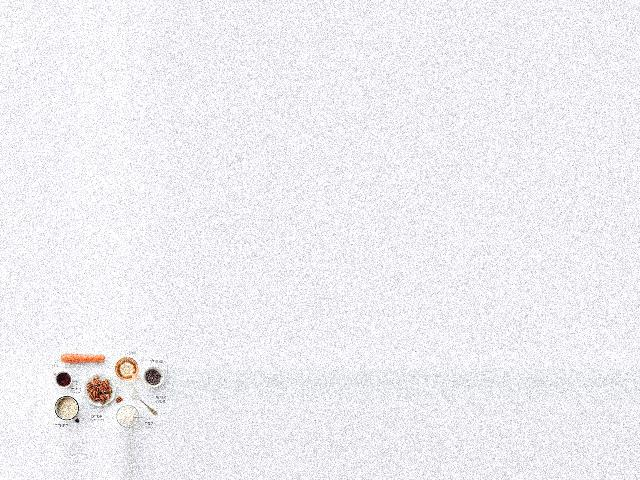carrot: (56, 351, 110, 368)
